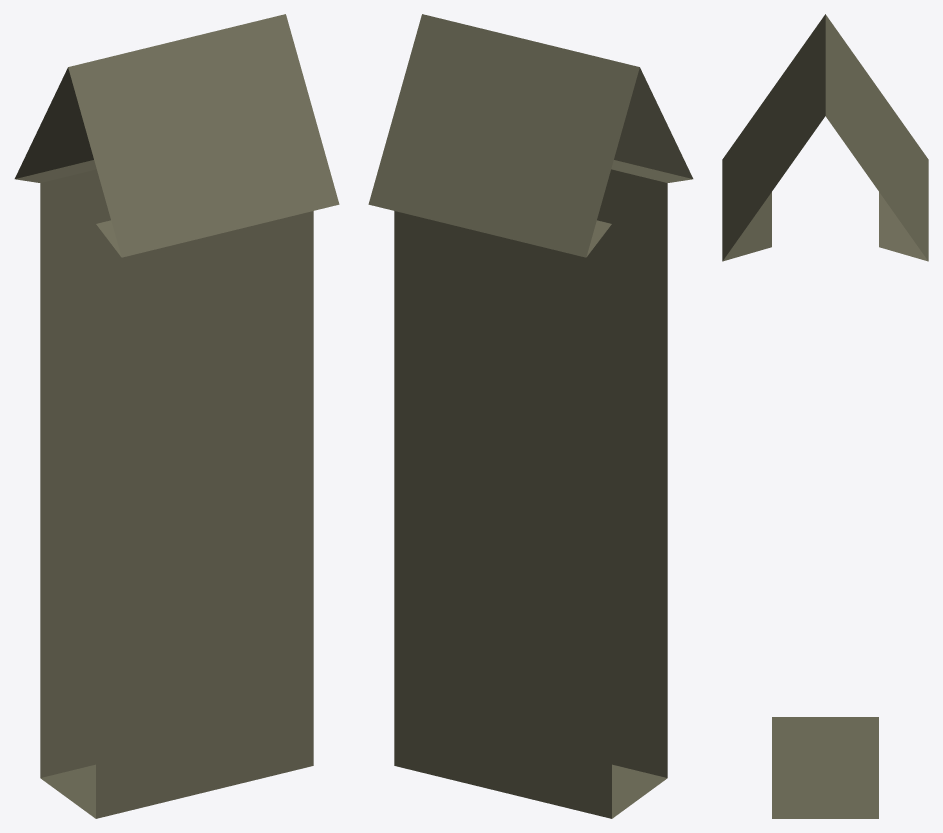
Rendered from FenceMiddle_v01.glb.
3 renders of one model, left to right at view 1: azimuth 30°, elevation 25°; view 2: azimuth 150°, elevation 25°; view 3: azimuth 270°, elevation 25°, orthographic. The views are drawn at different scales.
Parts seen in each view (by area): view 1: SM_FenceMiddle; view 2: SM_FenceMiddle; view 3: SM_FenceMiddle.
Part boxes in pixels (x1,y1,x2,y2): SM_FenceMiddle: [14, 14, 339, 818]; SM_FenceMiddle: [368, 14, 693, 818]; SM_FenceMiddle: [722, 14, 928, 818].
Bounding box in the file's own units: 0.76 × 2.44 × 0.648.
